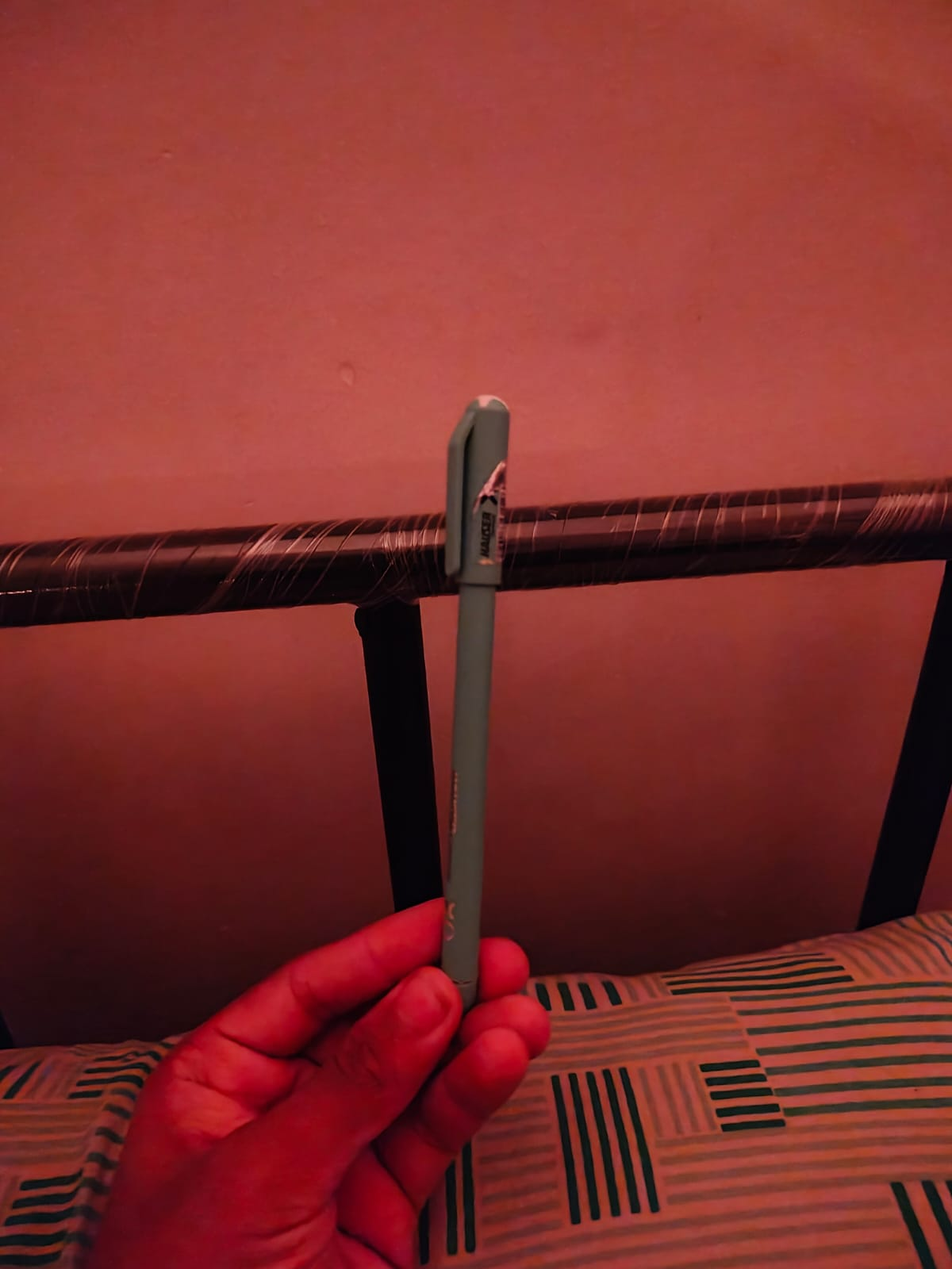pen: (401, 360, 563, 1037)
